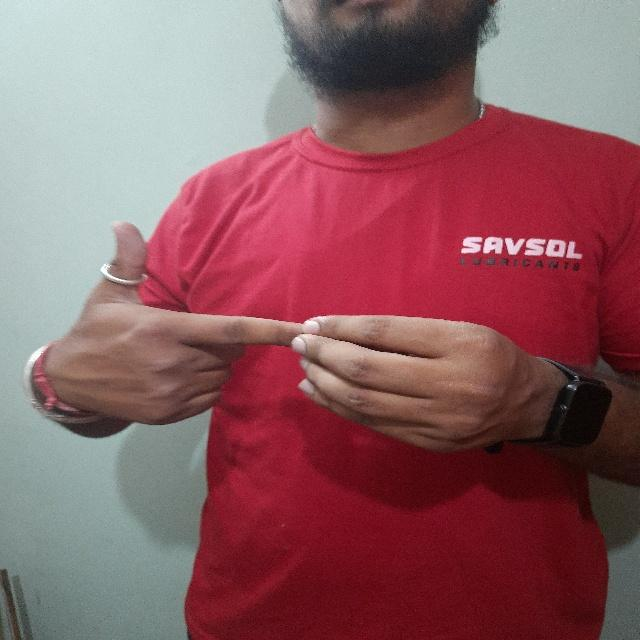Five Fathers: (59, 217, 544, 465)
